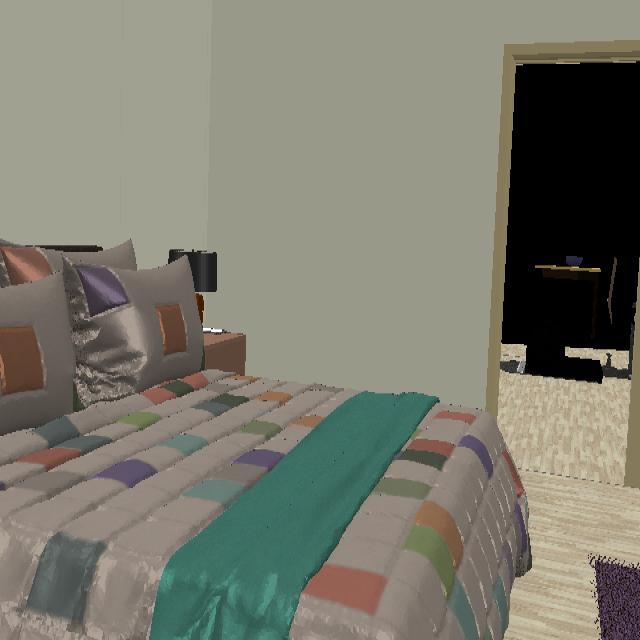bed: (0, 371, 530, 640)
book: (204, 324, 226, 333)
chair: (607, 257, 618, 325), (602, 353, 628, 377)
lamp: (168, 249, 217, 324)
nighttable: (205, 331, 247, 375)
pillow: (62, 256, 203, 409), (0, 273, 82, 436), (0, 239, 137, 285)
table: (525, 265, 603, 383)
